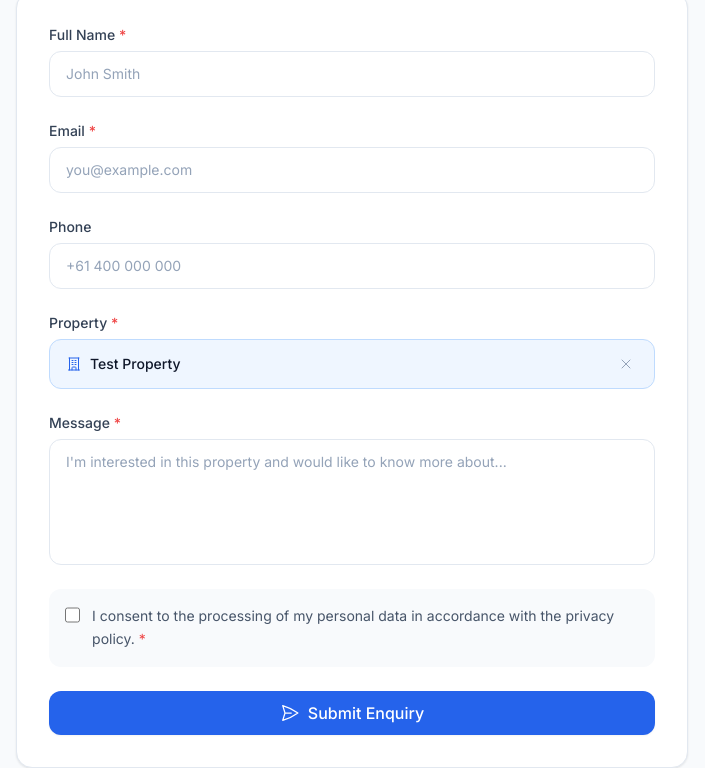
Test: EnquiryFormPage › shows validation errors for required fields on submit
(page scrolled)
Click the button "Submit Enquiry": [352, 713] box x1=49 y1=691 x2=655 y2=735
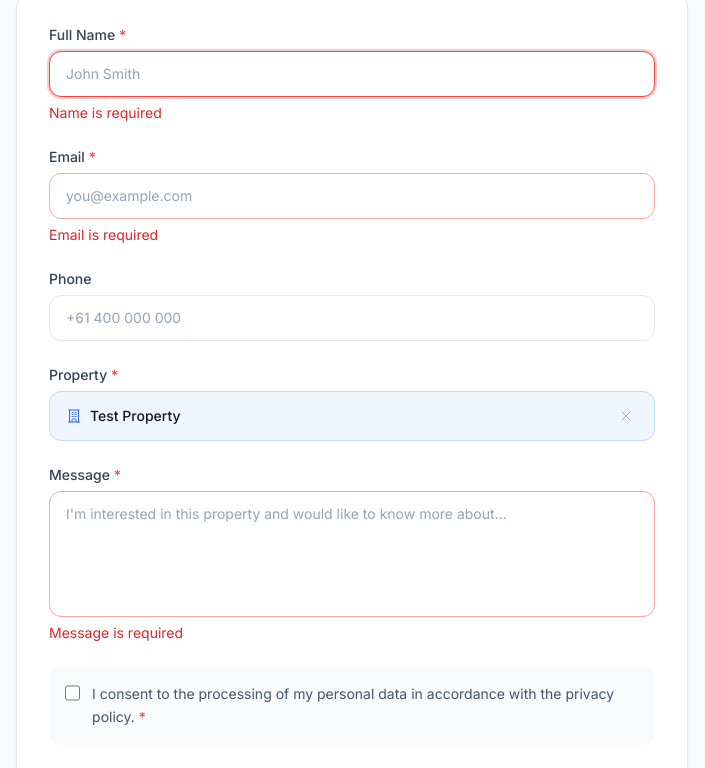
Check: the text "Name is required" is shown, box x1=49 y1=104 x2=162 y2=121
Check: the text "Email is required" is shown, box x1=49 y1=226 x2=158 y2=243
Check: the text "Message is required" is shown, box x1=49 y1=624 x2=183 y2=641
